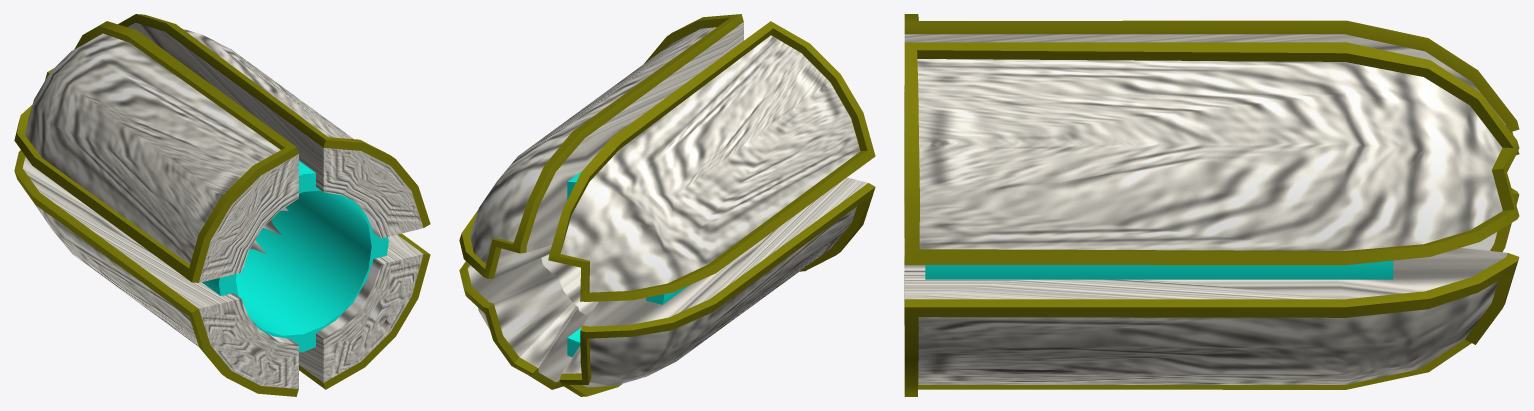
File: f_taihou1.fbx
3 views of the same model, side by side, from view 1: azimuth 30°, elevation 25°; view 2: azimuth 150°, elevation 25°; view 3: azimuth 270°, elevation 25° (orthographic). The views are drawn at different scales.
Parts seen in each view (by area): view 1: f_taihou_1, f_taihou_1desactived; view 2: f_taihou_1, f_taihou_1desactived; view 3: f_taihou_1, f_taihou_1desactived.
Part boxes in pixels (left/top/right/bottom): f_taihou_1: left=14, top=14, right=430, bottom=396; f_taihou_1desactived: left=202, top=161, right=388, bottom=352; f_taihou_1: left=459, top=14, right=875, bottom=396; f_taihou_1desactived: left=567, top=170, right=687, bottom=357; f_taihou_1: left=904, top=14, right=1519, bottom=396; f_taihou_1desactived: left=925, top=260, right=1393, bottom=279.
Size of the model in its own units: 40.78 by 40.78 by 65.7.
4 materials, 4 textured.
